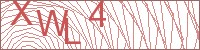4: (88, 1, 107, 28)
L: (63, 17, 82, 45)
W: (35, 9, 70, 37)
X: (11, 1, 34, 26)
